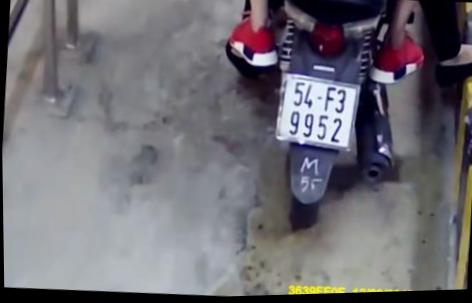LP: (271, 73, 361, 156)
